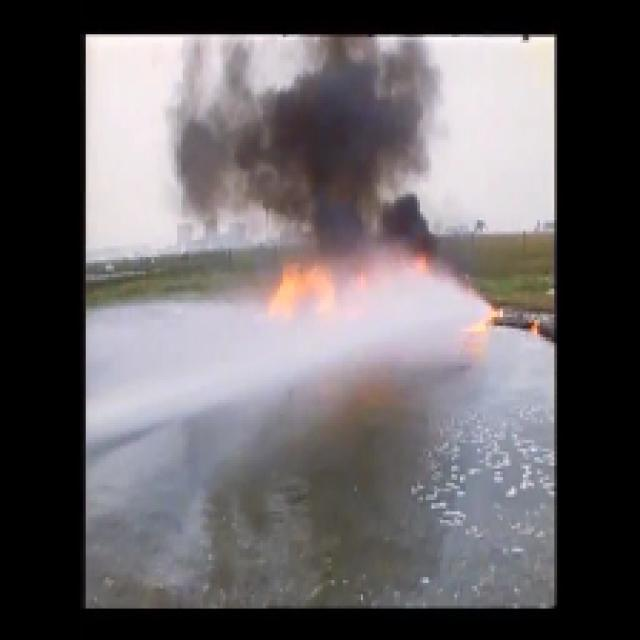Smoke: (185, 106, 346, 196)
